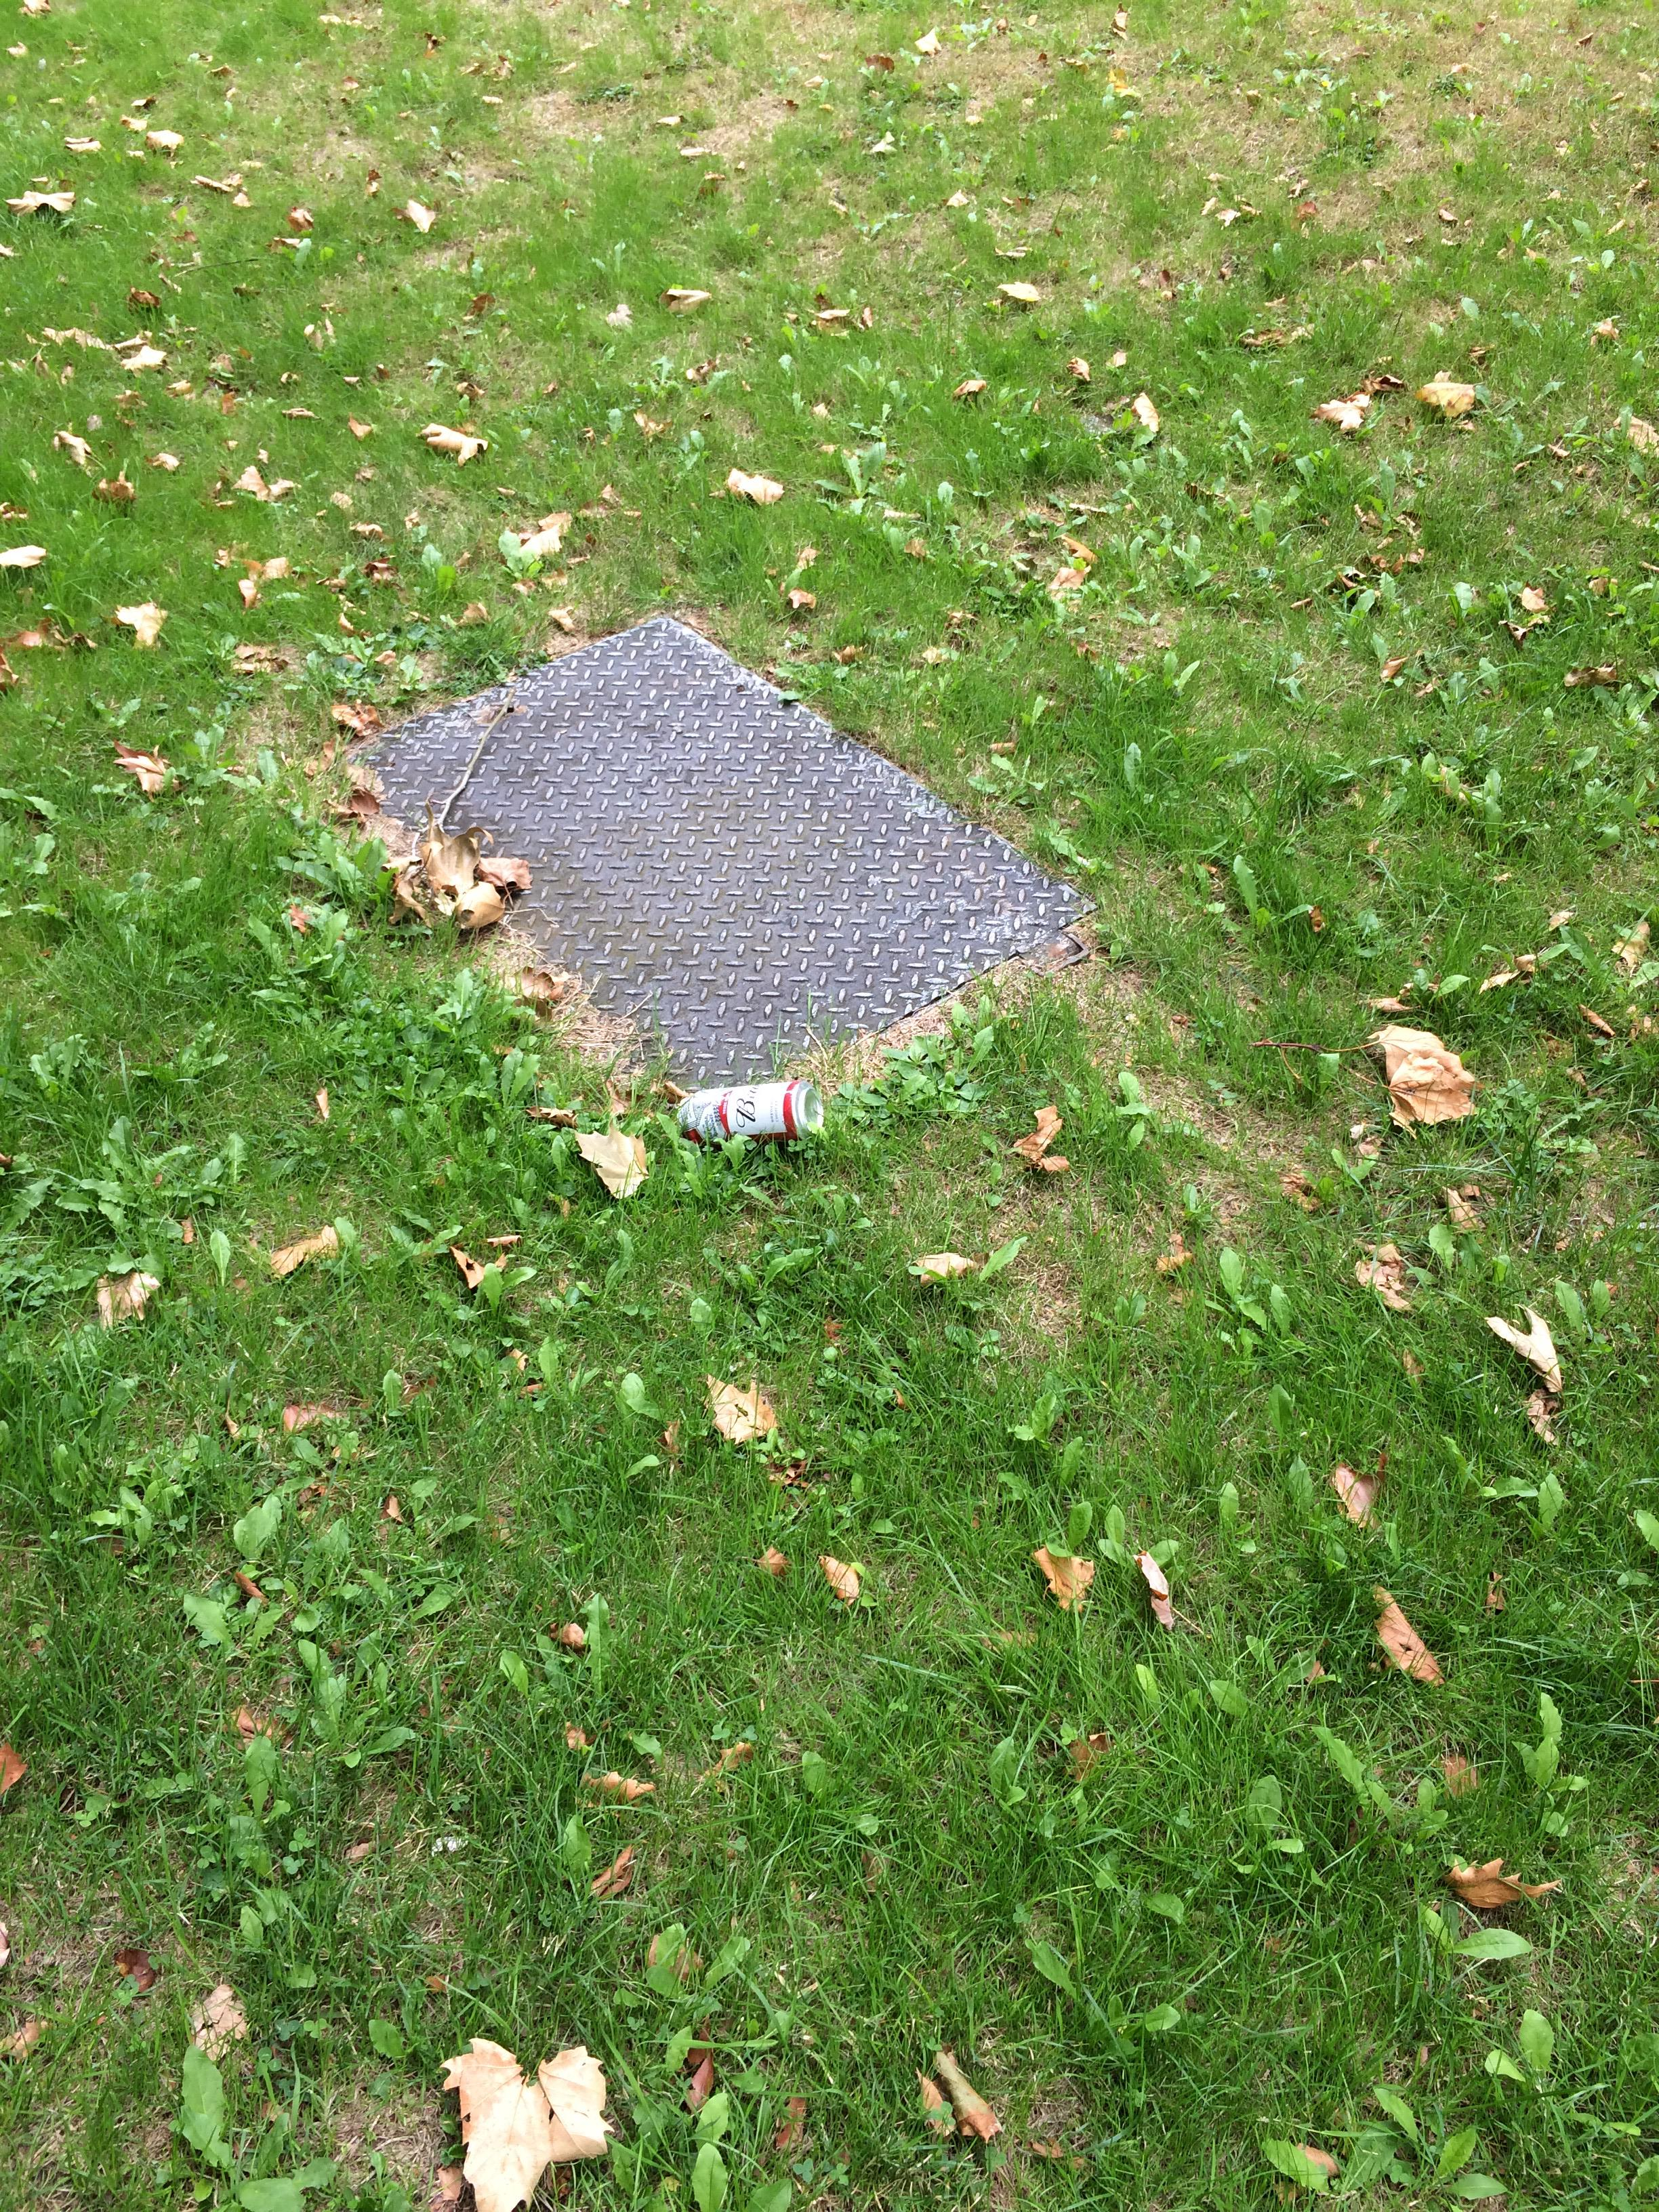Trash: (660, 1082, 836, 1150)
